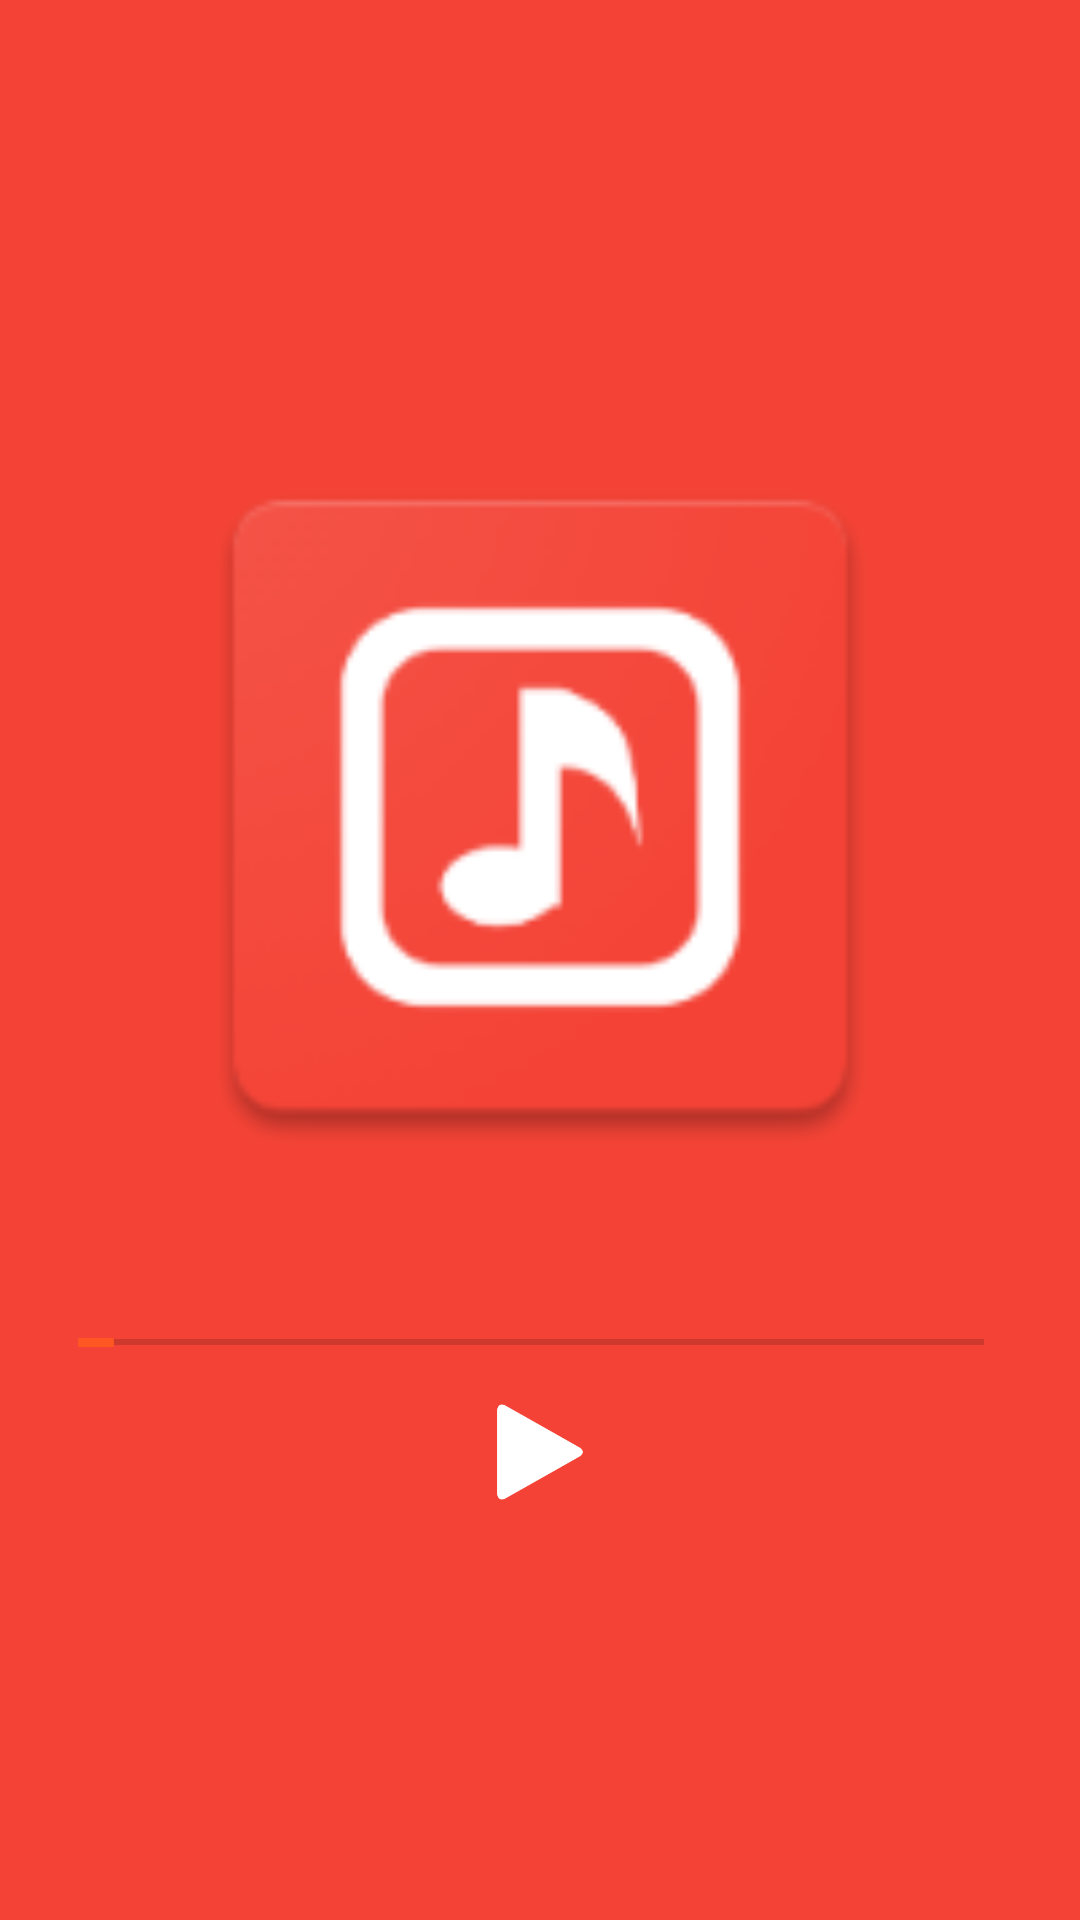

Screen size 1080×1920. Icon name, then its box in pixels as (x1, y1, x2, y2):
play: (497, 1404, 583, 1500)
